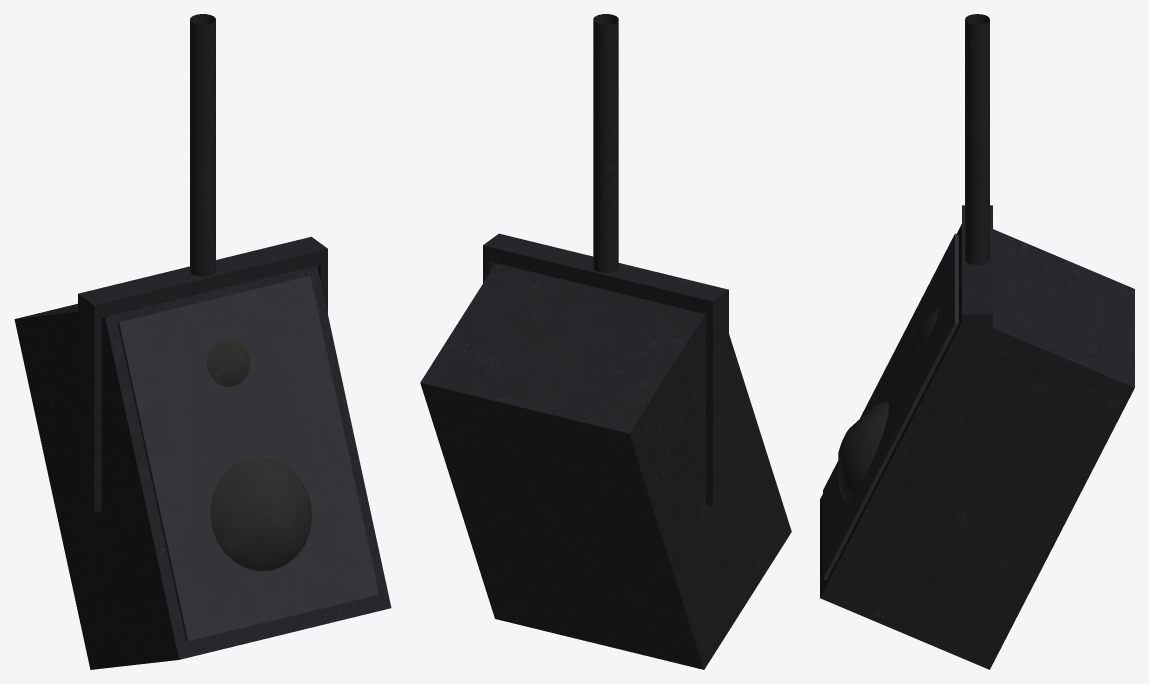
Rendered from SM_QUE_Speaker.fbx.
The picture shows the model from 3 angles, left to right: view 1: azimuth 30°, elevation 25°; view 2: azimuth 150°, elevation 25°; view 3: azimuth 270°, elevation 25°; orthographic projection. The views are drawn at different scales.
Visible parts, largest first — view 1: SM_QUE_Speaker; view 2: SM_QUE_Speaker; view 3: SM_QUE_Speaker.
Boxes of the visible parts, x1,y1,x2,y2 form: SM_QUE_Speaker: (14, 14, 391, 669); SM_QUE_Speaker: (420, 14, 791, 669); SM_QUE_Speaker: (820, 14, 1134, 669).
Size of the model in its own units: 0.33 by 0.8501 by 0.4035.
